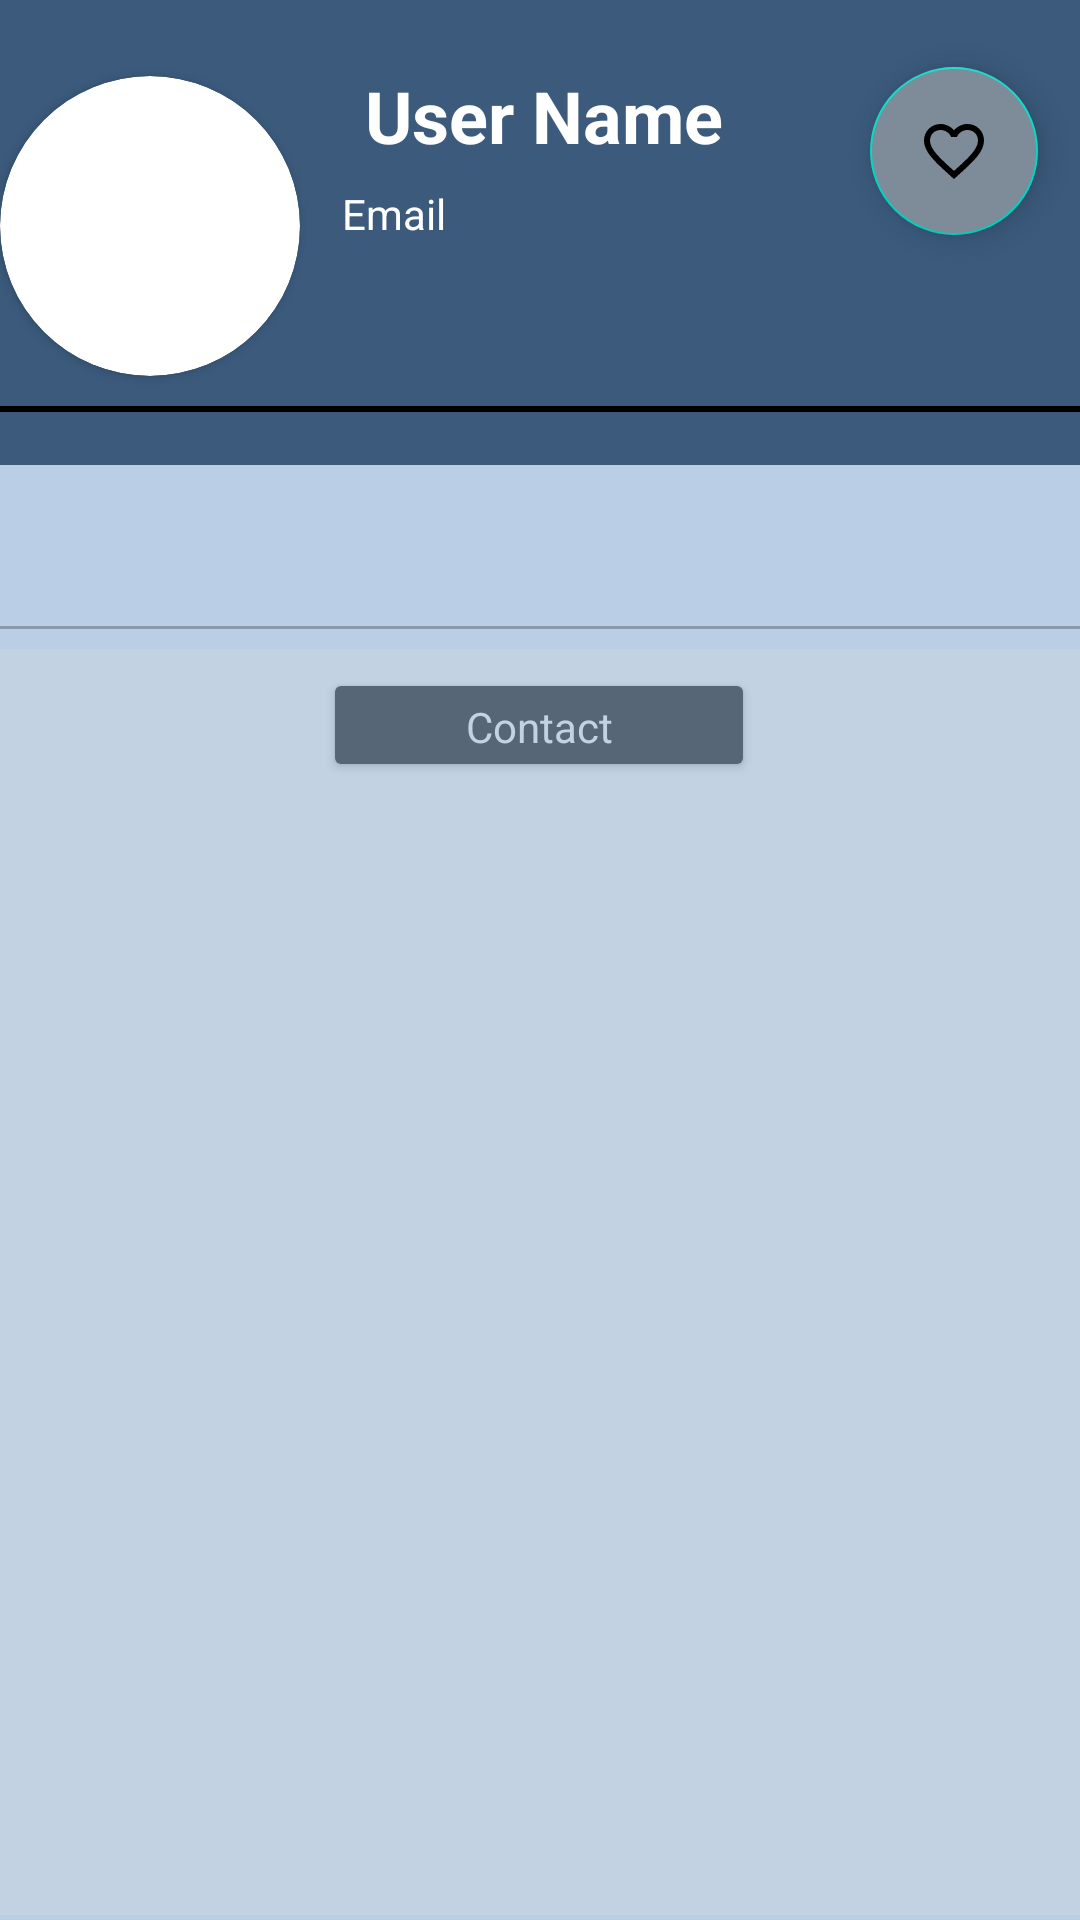

Where icons sit on this 1080px×1920px app screen, as (x1, y1, x2, y2):
unfavorite: (870, 67, 1038, 235)
